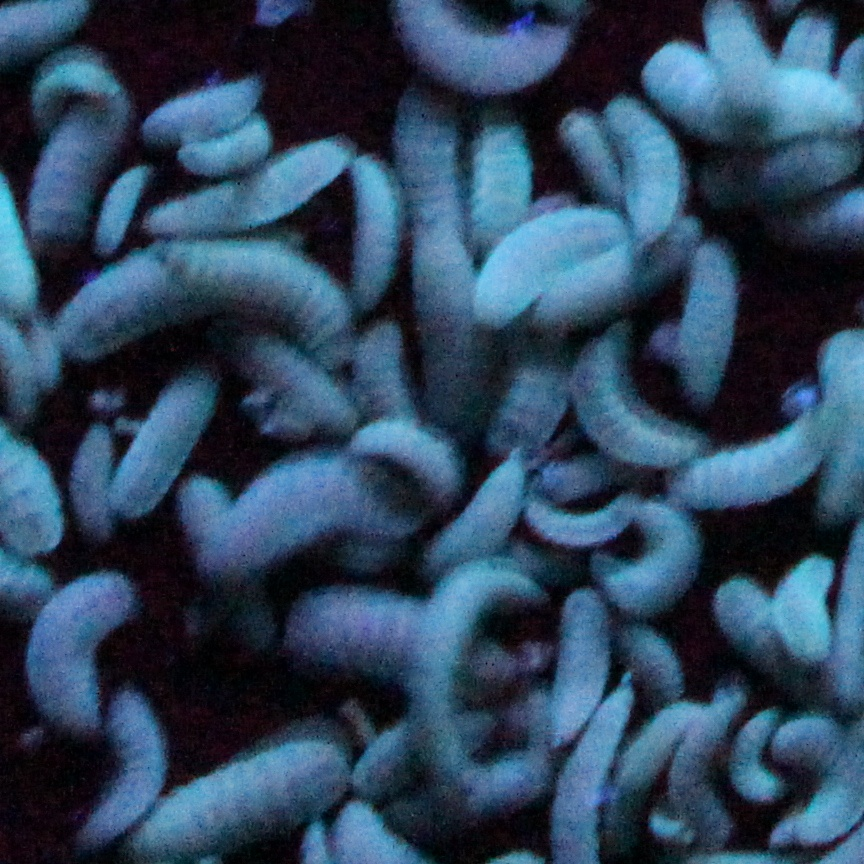larve: (394, 132, 483, 407), (137, 739, 344, 850), (212, 464, 419, 575), (62, 250, 365, 325), (426, 568, 537, 771), (154, 128, 344, 232), (562, 339, 715, 464), (19, 578, 126, 721), (483, 203, 608, 325), (544, 678, 633, 846), (104, 371, 212, 507), (679, 407, 819, 496), (594, 103, 683, 236), (615, 496, 719, 600), (72, 696, 154, 825), (672, 685, 733, 828), (47, 96, 112, 225), (154, 61, 251, 146), (712, 139, 854, 196), (344, 157, 394, 307), (708, 3, 765, 121), (679, 264, 726, 400), (794, 557, 837, 657)
